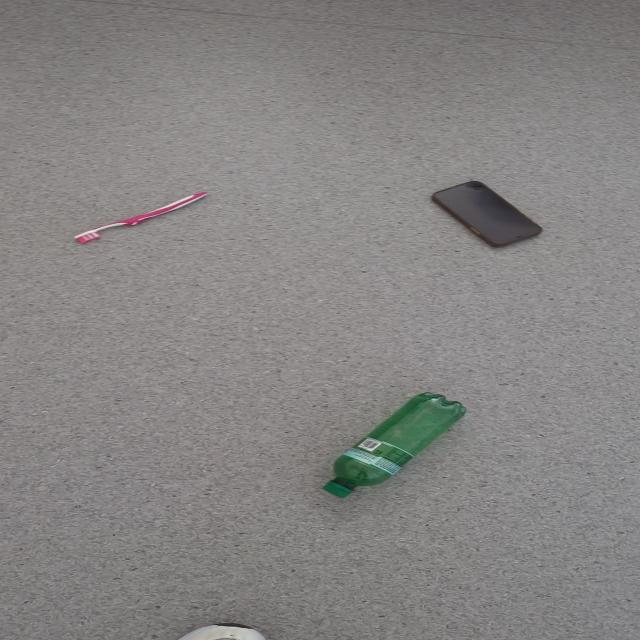bottle: (321, 391, 466, 498)
phone: (430, 180, 543, 248)
toothbrush: (72, 191, 208, 244)
